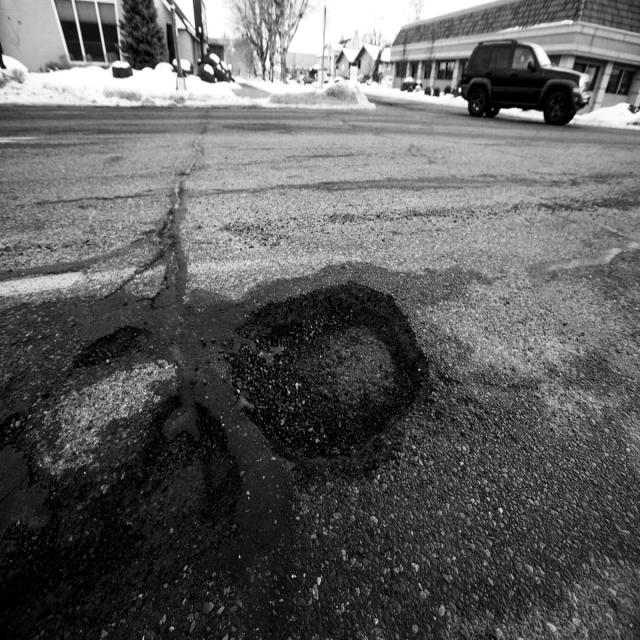pathole: (0, 398, 241, 609), (231, 283, 428, 469), (74, 326, 144, 368), (162, 189, 188, 302)
